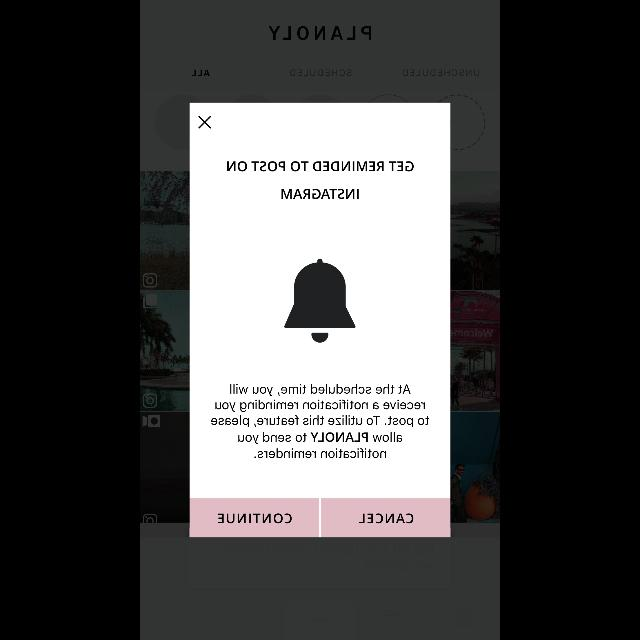icon: (284, 259, 356, 343), (198, 115, 212, 128)
panel: (190, 103, 450, 537)
text: (211, 384, 429, 458), (227, 162, 413, 198)
textbutton: (322, 498, 451, 538), (190, 498, 318, 538)
